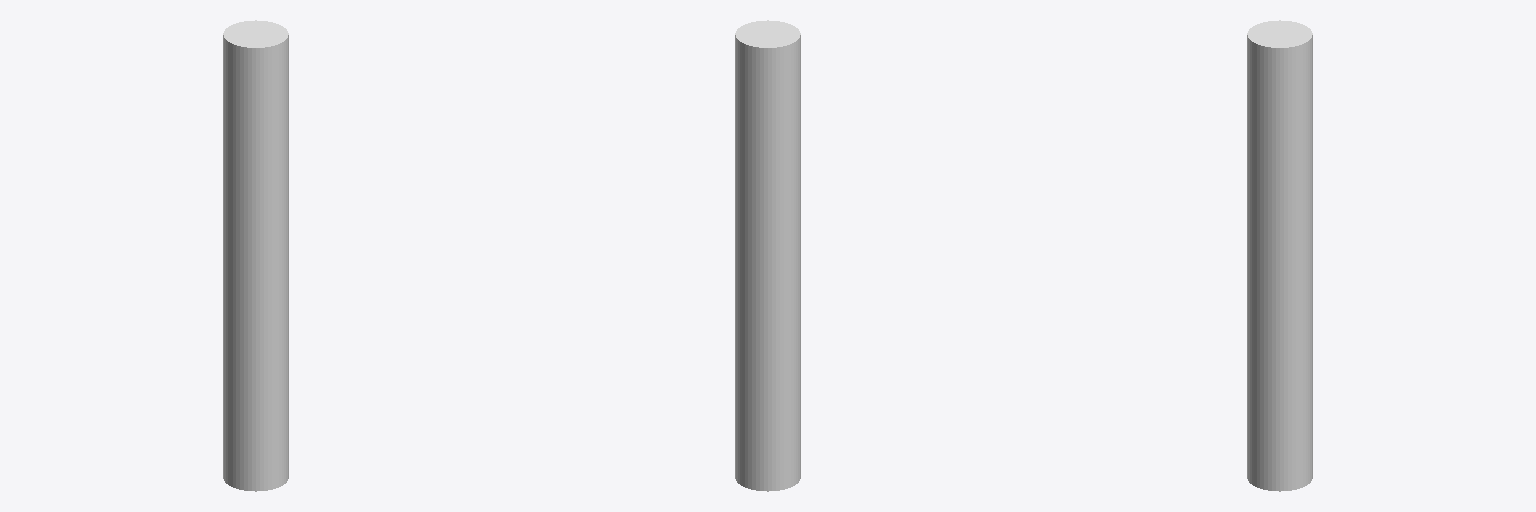
URDF robot description (87994__white):
<?xml version="1.0"?>
<robot name="87994__white">
  <link name="87994__white">
    <inertial>
      <origin xyz="0.000000 0.000000 -0.012000" rpy="0 0 0"/>
      <mass value="0.000202"/>
      <inertia ixx="9.829330235e-09" ixy="3.865418436e-28" ixz="1.060229057e-26" iyy="9.829330235e-09" iyz="-0.000000000e+00" izz="2.579370246e-10"/>
    </inertial>
    <visual>
      <geometry>
        <mesh filename="../meshes/visual/87994.obj" scale="1 1 1"/>
      </geometry>
      <material name="87994__white_color">
        <color rgba="0.950 0.950 0.950 1.000"/>
      </material>
    </visual>
    <collision>
      <geometry>
        <mesh filename="../meshes/collision/87994_hull.obj" scale="1 1 1"/>
      </geometry>
    </collision>
  </link>
</robot>

--- Facts derived from the render (not from the file) ---
3 views of the same robot in one strip: view 1: azimuth 30°, elevation 25°; view 2: azimuth 150°, elevation 25°; view 3: azimuth 270°, elevation 25° (orthographic).
Model 87994__white with 1 links and 0 joints (none), rooted at 87994__white, posed all joints at 0.
Visible links, largest first — view 1: 87994__white; view 2: 87994__white; view 3: 87994__white.
Boxes of the visible links, x1,y1,x2,y2 form: 87994__white: (223,20,288,491); 87994__white: (735,20,800,491); 87994__white: (1247,20,1312,491).
Bounding box of the posed robot: 0.0032 × 0.0032 × 0.024 m (x, y, z).
Meshes: 1 distinct files referenced, 1 mesh visuals loaded (1 OBJ).
